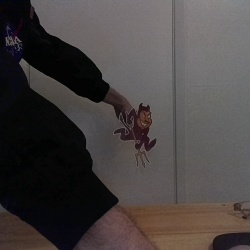sparky: (112, 101, 157, 167)
